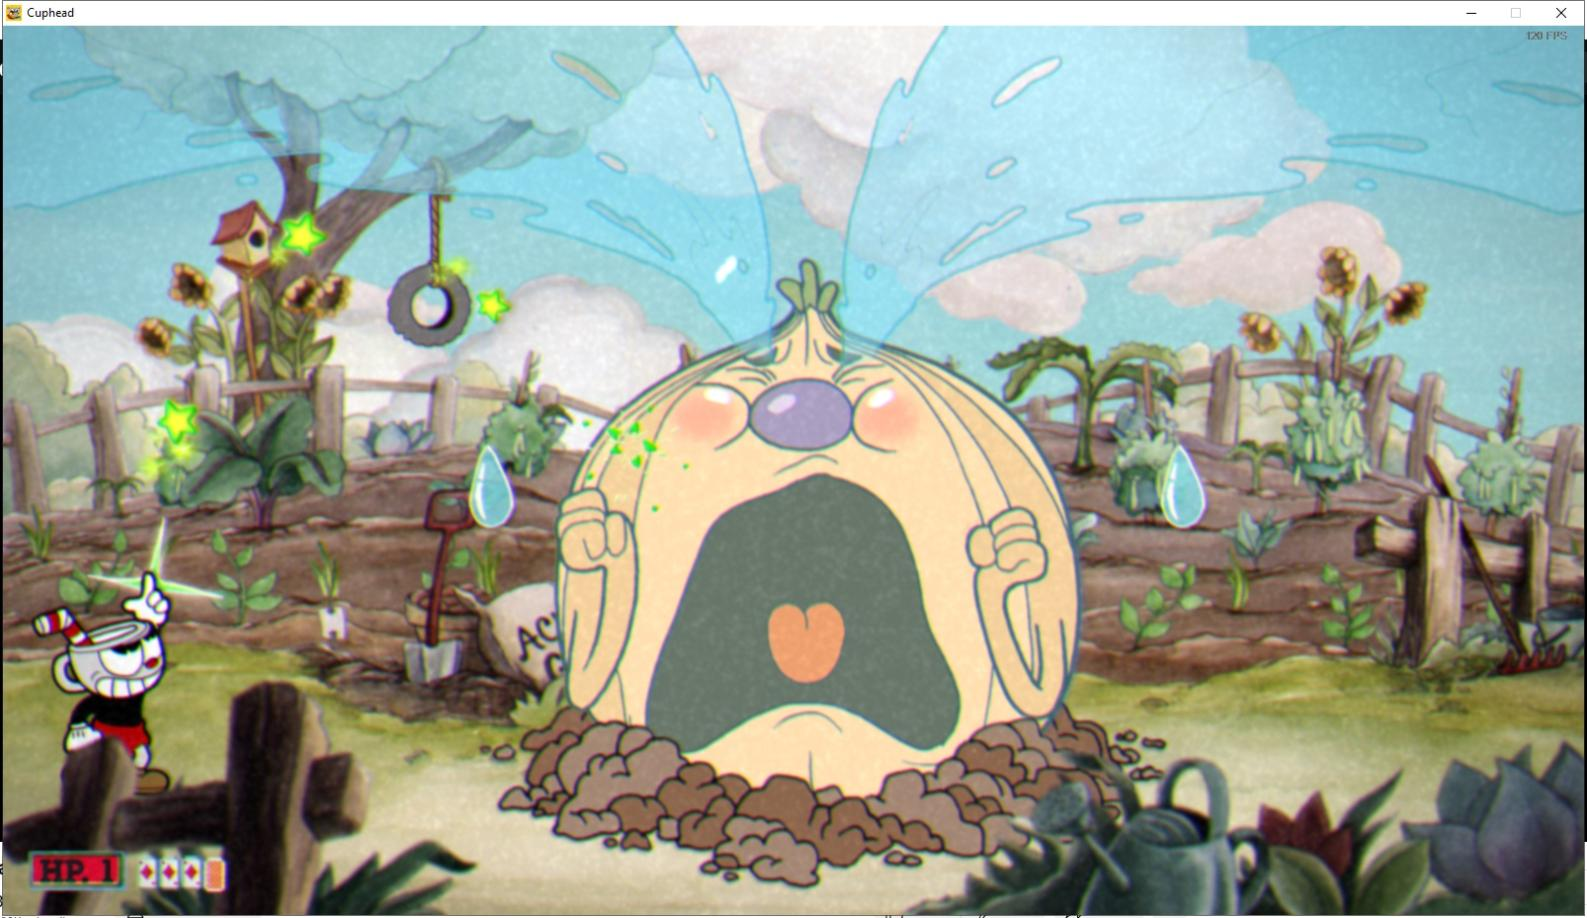hp1: (90, 847, 127, 892)
onion_boss: (540, 250, 1100, 824)
player: (21, 554, 191, 804)
rain: (1154, 438, 1212, 539), (464, 438, 521, 535)
